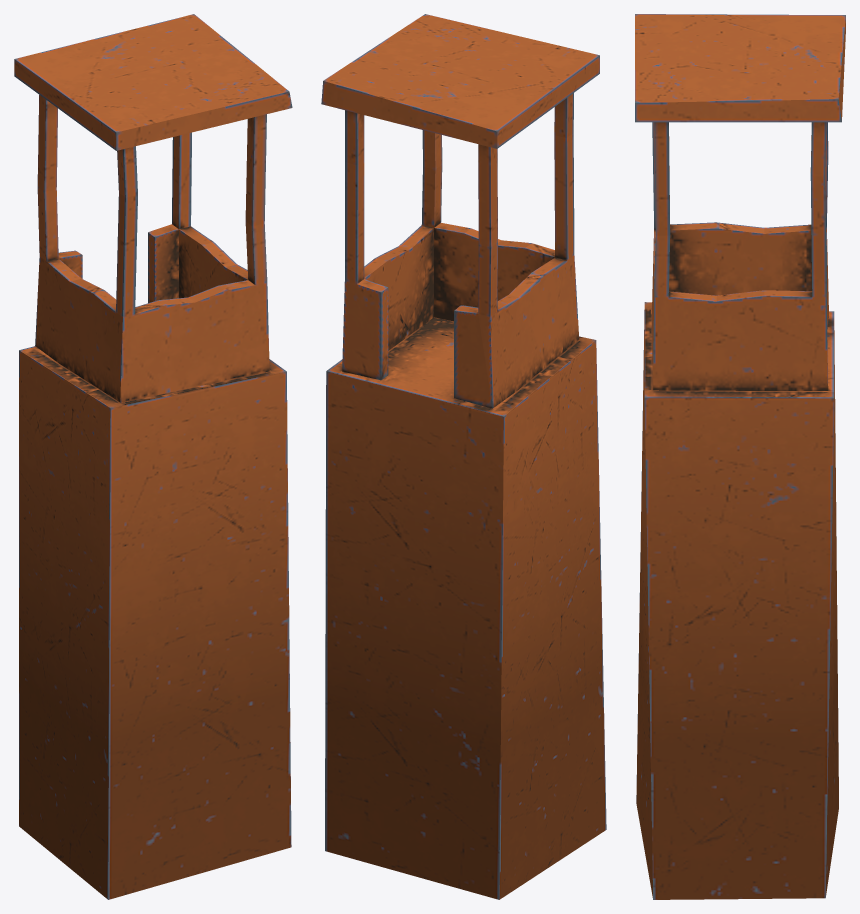
Rendered from WallTower1.fbx.
The picture shows the model from 3 angles, left to right: view 1: azimuth 30°, elevation 25°; view 2: azimuth 150°, elevation 25°; view 3: azimuth 270°, elevation 25°; orthographic projection. The views are drawn at different scales.
Visible parts, largest first — view 1: WallTower1; view 2: WallTower1; view 3: WallTower1.
Boxes of the visible parts, x1=… form: WallTower1: x1=14, y1=14, x2=292, y2=899; WallTower1: x1=321, y1=14, x2=606, y2=899; WallTower1: x1=635, y1=14, x2=845, y2=899.
Bounding box in the file's own units: 2.17 × 8.34 × 2.
